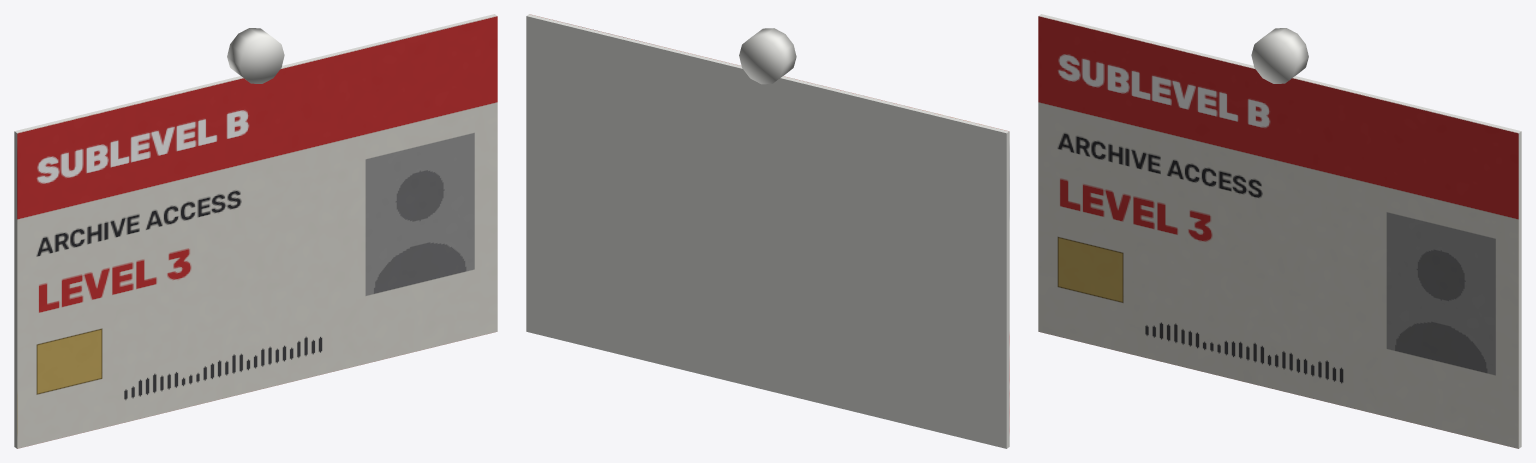
The model's file is ep-keycard-red.glb.
The picture shows the model from 3 angles, left to right: view 1: azimuth 30°, elevation 25°; view 2: azimuth 150°, elevation 25°; view 3: azimuth 330°, elevation 25°; orthographic projection.
Parts seen in each view (by area): view 1: Keycard_red; view 2: Keycard_red; view 3: Keycard_red.
Part boxes in pixels (left/top/right/bottom): Keycard_red: left=14, top=14, right=497, bottom=448; Keycard_red: left=526, top=14, right=1009, bottom=448; Keycard_red: left=1038, top=14, right=1521, bottom=448.
Bounding box in the file's own units: 0.086 × 0.061 × 0.004.
2 materials, 1 textured.
